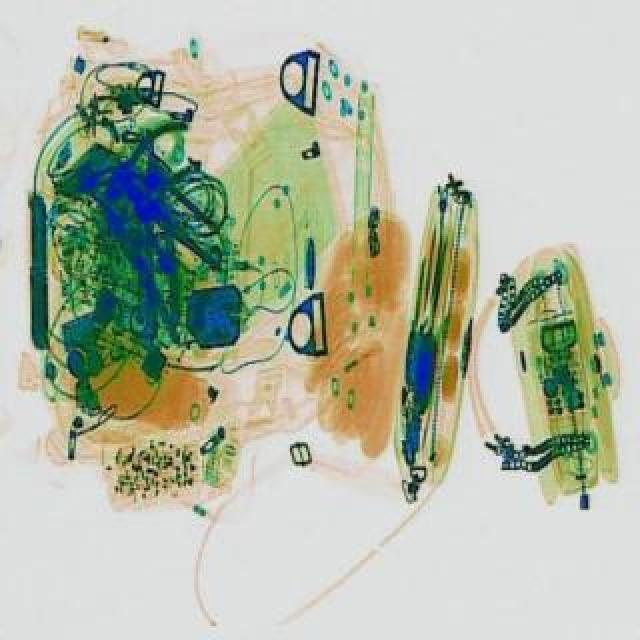wrench: (54, 146, 246, 342), (66, 116, 204, 210)
